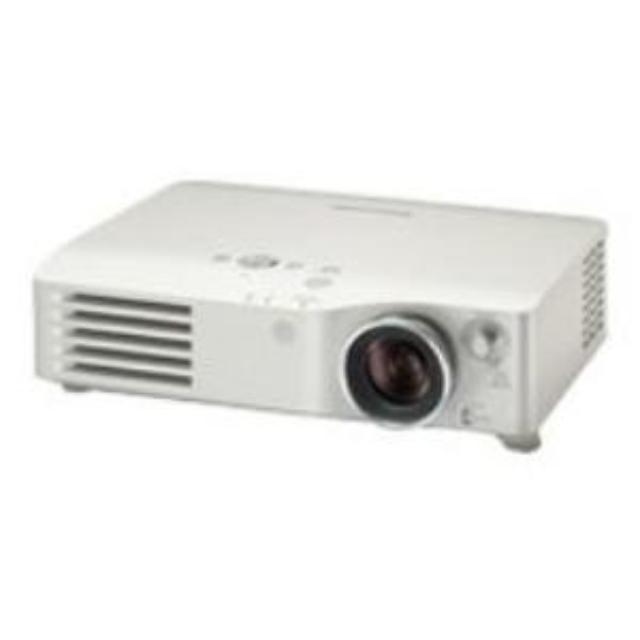Projector: (30, 182, 616, 462)
